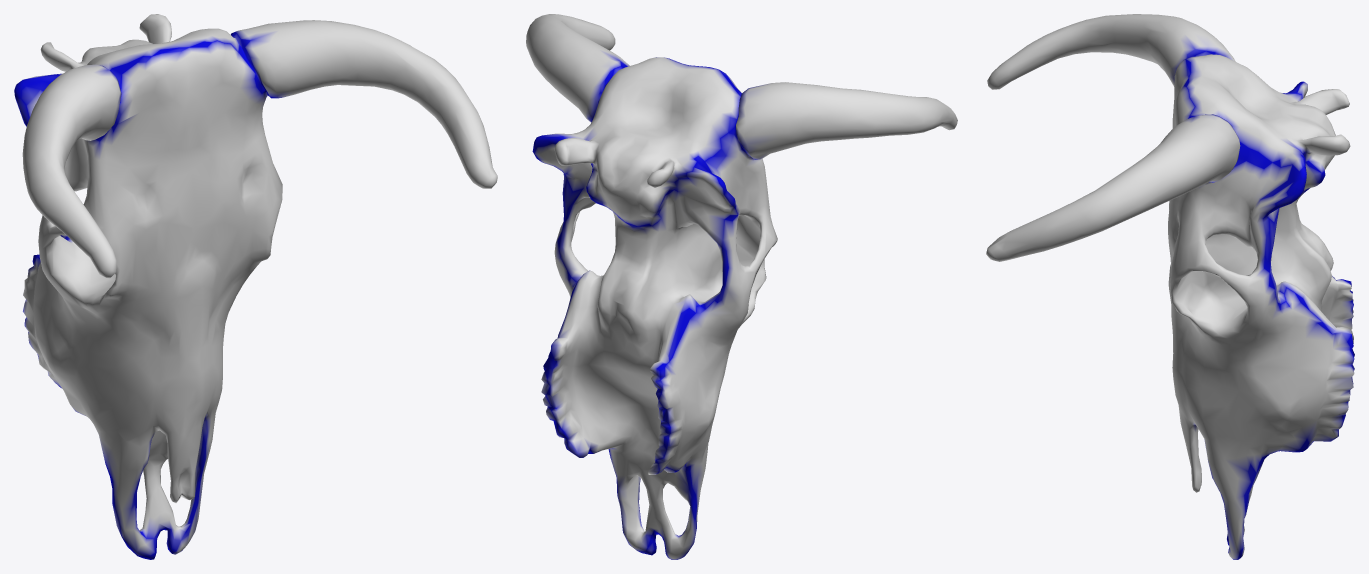
Rendered from SM_Wall_Decor.FBX.
3 renders of one model, left to right at view 1: azimuth 30°, elevation 25°; view 2: azimuth 150°, elevation 25°; view 3: azimuth 270°, elevation 25°, orthographic. The views are drawn at different scales.
Parts seen in each view (by area): view 1: SM_Wall_Decor; view 2: SM_Wall_Decor; view 3: SM_Wall_Decor.
Boxes of the visible parts, x1,y1,x2,y2 form: SM_Wall_Decor: (14,14,497,559); SM_Wall_Decor: (526,14,957,559); SM_Wall_Decor: (986,14,1354,559).
Size of what is drawn, in the model's own units: 78.23 by 64.1 by 91.73.
